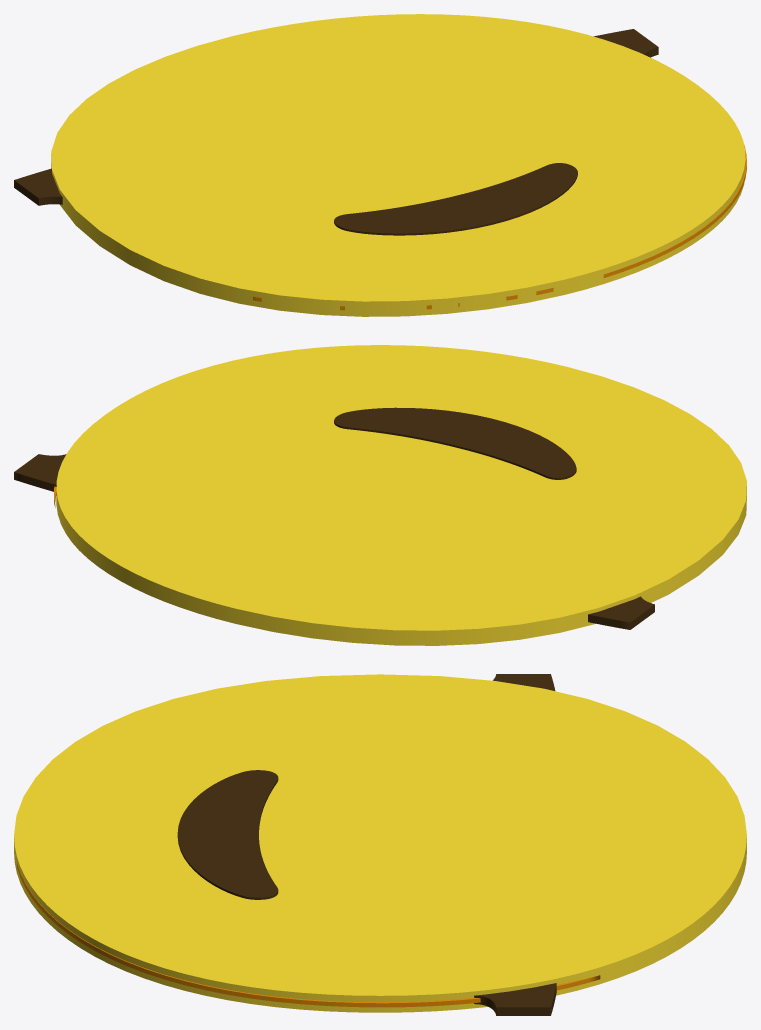
File: emoji_u1f60e.glb
3 renders of one model, top to bottom at view 1: azimuth 30°, elevation 25°; view 2: azimuth 150°, elevation 25°; view 3: azimuth 270°, elevation 25°, orthographic. The views are drawn at different scales.
Parts seen in each view (by area): view 1: emoji_u1f60e; view 2: emoji_u1f60e; view 3: emoji_u1f60e.
Part boxes in pixels (x1=…): emoji_u1f60e: x1=14, y1=14, x2=746, y2=316; emoji_u1f60e: x1=14, y1=345, x2=746, y2=645; emoji_u1f60e: x1=14, y1=674, x2=746, y2=1015.
Bounding box in the file's own units: 0.0338 × 0.001 × 0.0315.
